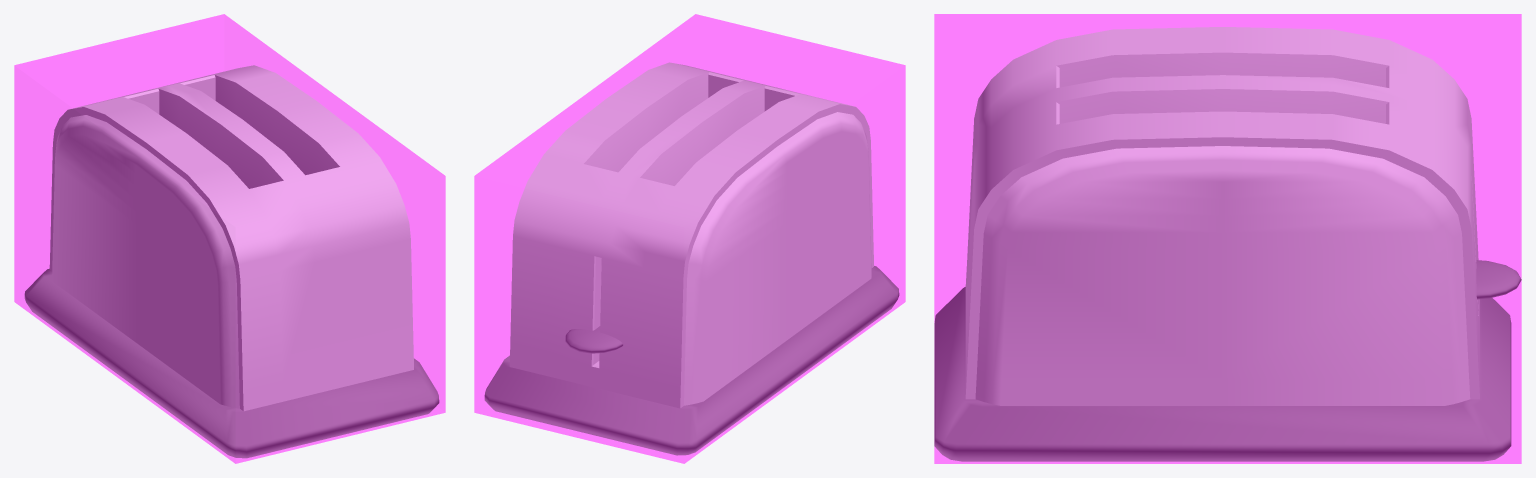
Rendered from toaster_A.fbx.
3 views of the same model, side by side, from view 1: azimuth 30°, elevation 25°; view 2: azimuth 150°, elevation 25°; view 3: azimuth 270°, elevation 25° (orthographic). The views are drawn at different scales.
Parts seen in each view (by area): view 1: toaster_boundingBox, toaster; view 2: toaster_boundingBox, toaster; view 3: toaster_boundingBox, toaster.
Part boxes in pixels (left/top/right/bottom): toaster_boundingBox: left=14, top=14, right=445, bottom=463; toaster: left=24, top=65, right=439, bottom=458; toaster_boundingBox: left=474, top=14, right=905, bottom=463; toaster: left=484, top=62, right=899, bottom=455; toaster_boundingBox: left=934, top=14, right=1521, bottom=463; toaster: left=934, top=27, right=1521, bottom=461.
Size of the model in its own units: 17.12 by 18.41 by 31.23.
